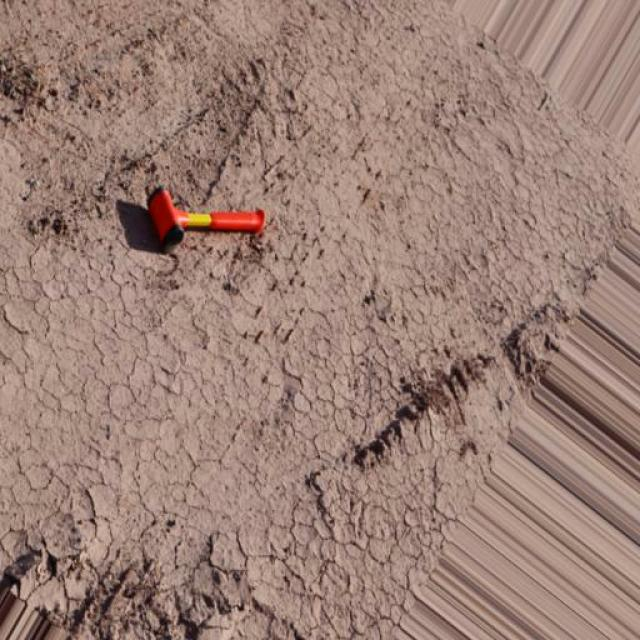mallet: (145, 184, 266, 252)
